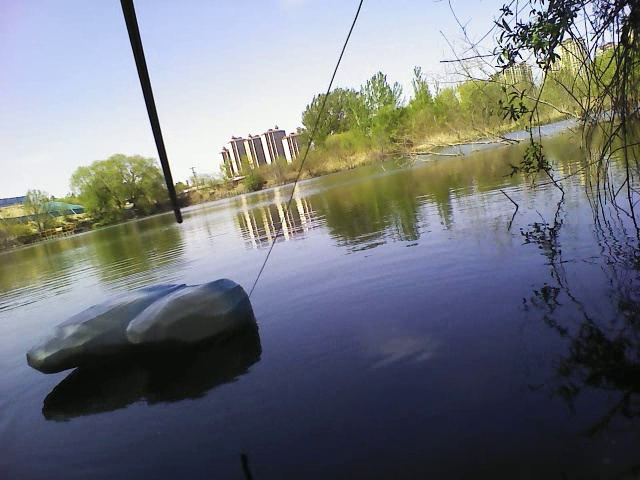iceberg: (26, 271, 257, 375)
